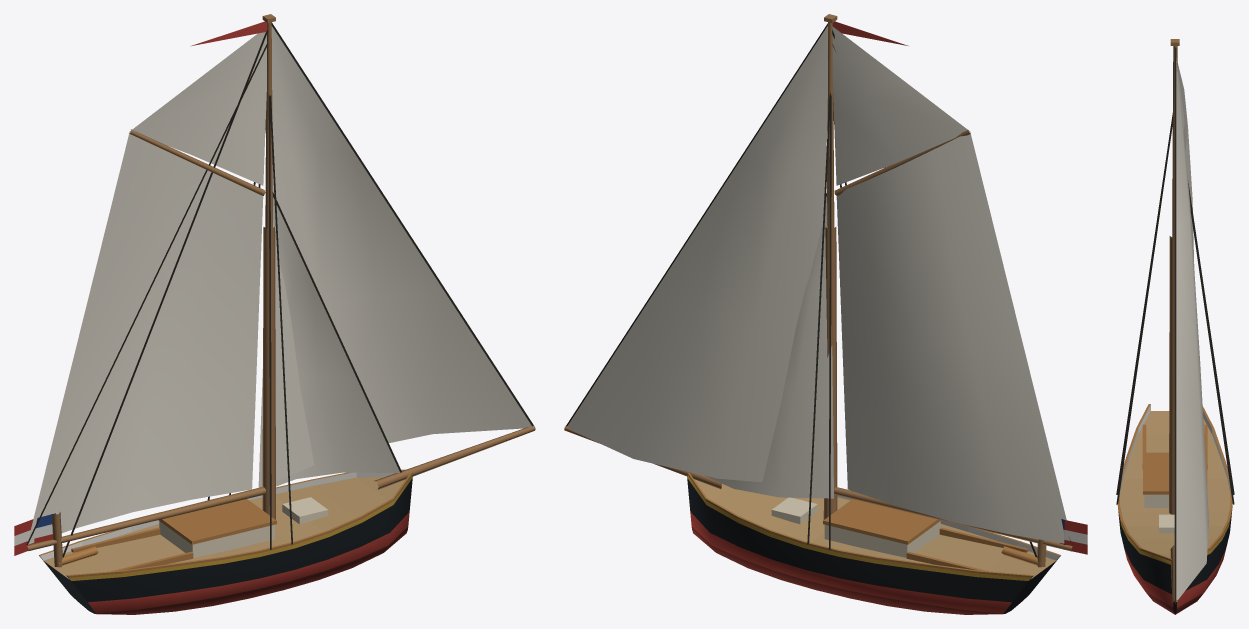
Rendered from hull_usd_cutter_medium.glb.
3 renders of one model, left to right at view 1: azimuth 30°, elevation 25°; view 2: azimuth 150°, elevation 25°; view 3: azimuth 270°, elevation 25°, orthographic. The views are drawn at different scales.
Parts seen in each view (by area): view 1: sail_main, sail_jib, hull, deck, mast, rigging, boom_spar, flag, gaff; view 2: sail_main, sail_jib, hull, deck, mast, rigging, flag, boom_spar; view 3: sail_jib, hull, rigging, mast, deck, sail_main.
Boxes of the visible parts, x1=… form: sail_main: x1=28, y1=32, x2=266, y2=544; sail_jib: x1=258, y1=26, x2=531, y2=487; hull: x1=39, y1=469, x2=412, y2=614; deck: x1=58, y1=497, x2=328, y2=571; mast: x1=52, y1=14, x2=535, y2=567; rigging: x1=62, y1=22, x2=533, y2=557; boom_spar: x1=26, y1=43, x2=267, y2=550; flag: x1=14, y1=21, x2=267, y2=555; gaff: x1=129, y1=129, x2=265, y2=195; sail_main: x1=832, y1=26, x2=1066, y2=543; sail_jib: x1=567, y1=26, x2=833, y2=498; hull: x1=687, y1=472, x2=1060, y2=614; deck: x1=771, y1=497, x2=1040, y2=571; mast: x1=564, y1=14, x2=1046, y2=567; rigging: x1=566, y1=23, x2=1037, y2=557; flag: x1=832, y1=21, x2=1087, y2=554; boom_spar: x1=832, y1=44, x2=1073, y2=551; sail_jib: x1=1176, y1=58, x2=1208, y2=599; hull: x1=1117, y1=404, x2=1232, y2=614; rigging: x1=1116, y1=46, x2=1234, y2=603; mast: x1=1169, y1=39, x2=1179, y2=602; deck: x1=1142, y1=424, x2=1207, y2=533; sail_main: x1=1177, y1=63, x2=1194, y2=265.
Bounding box in the file's own units: 18.88 × 19.7 × 3.99.
